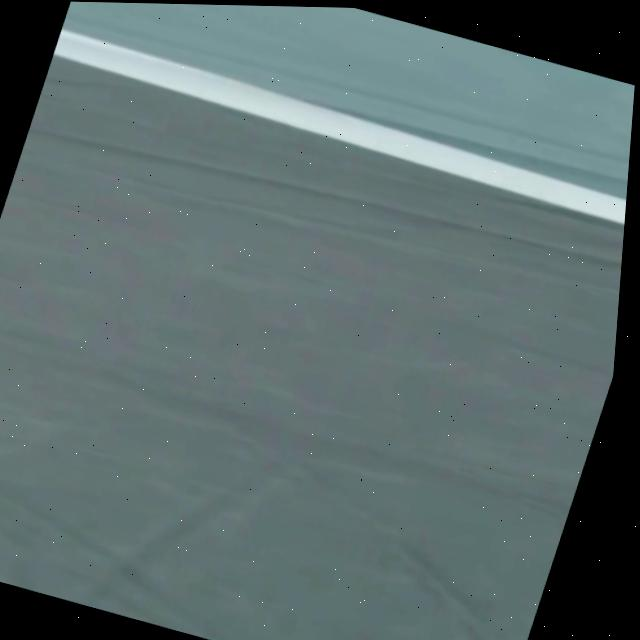left: (54, 28, 626, 222)
